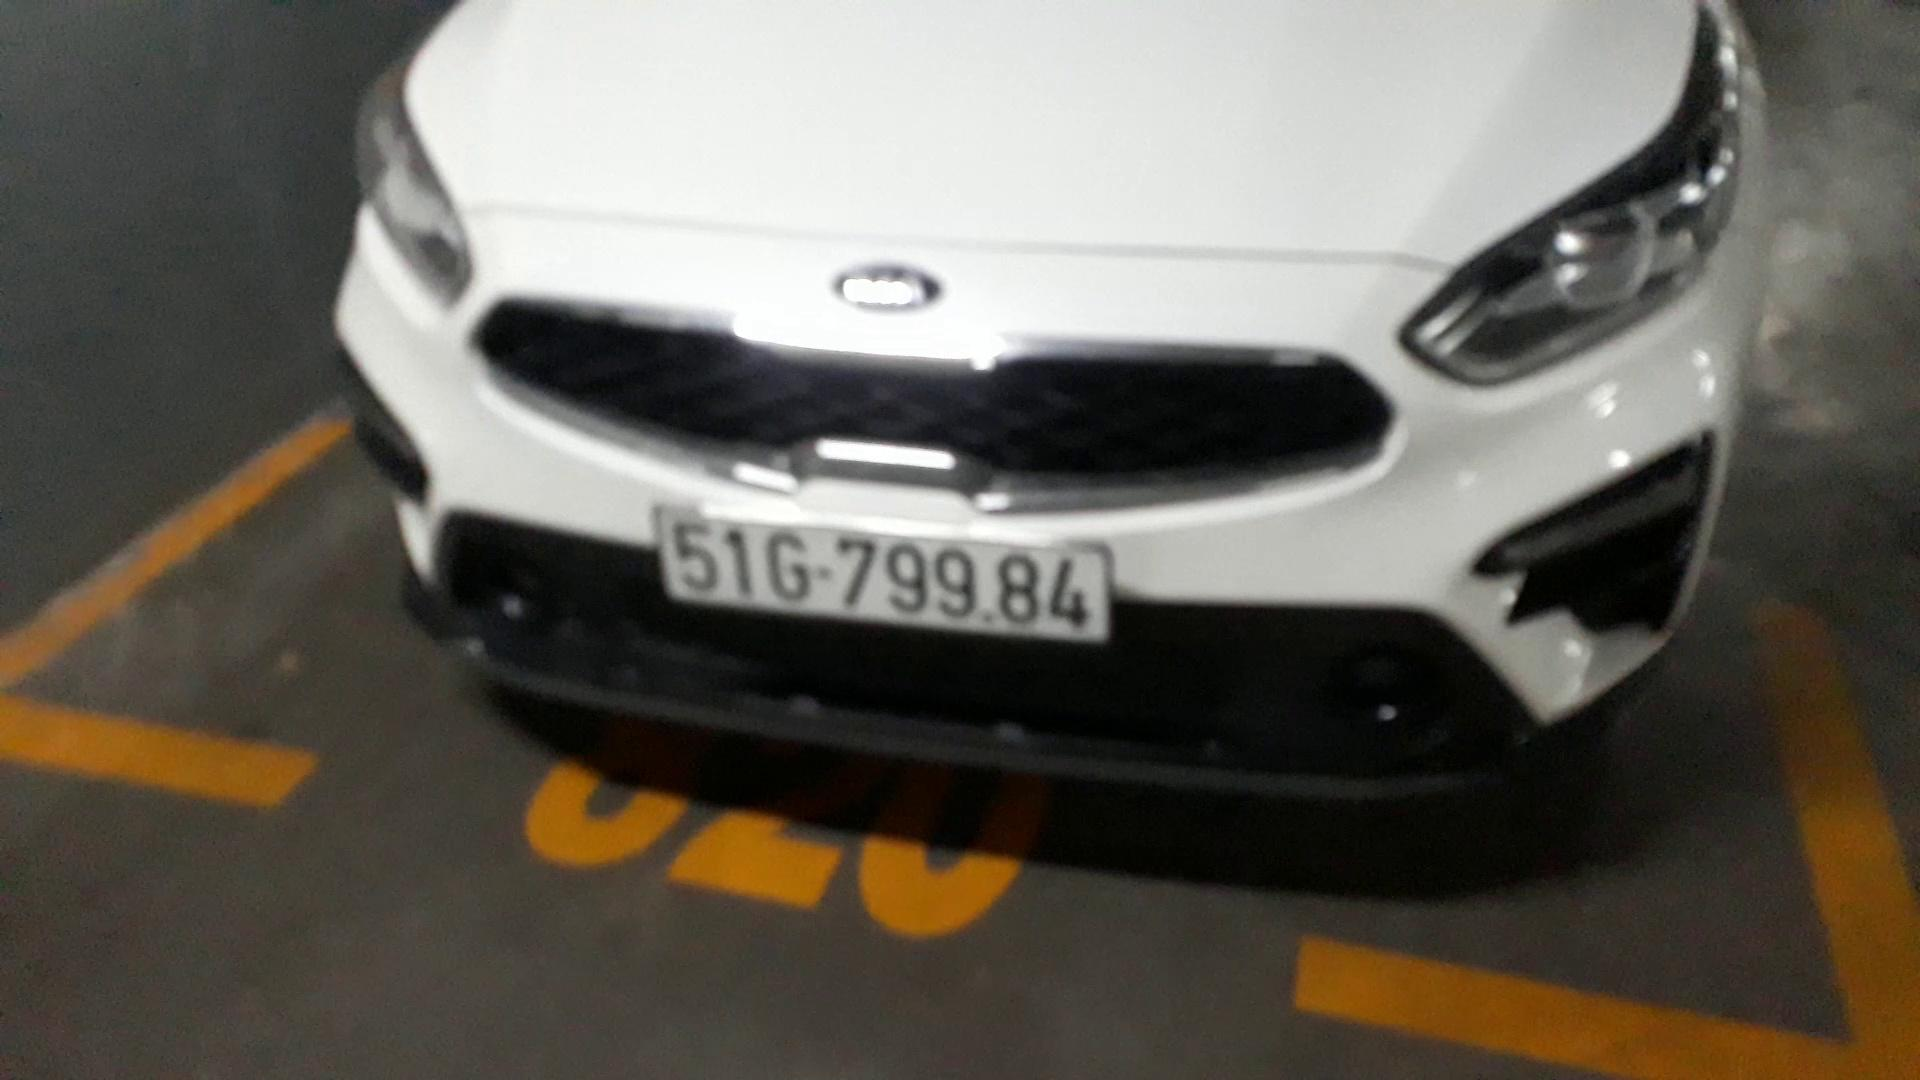numplate: (663, 491, 1120, 671)
